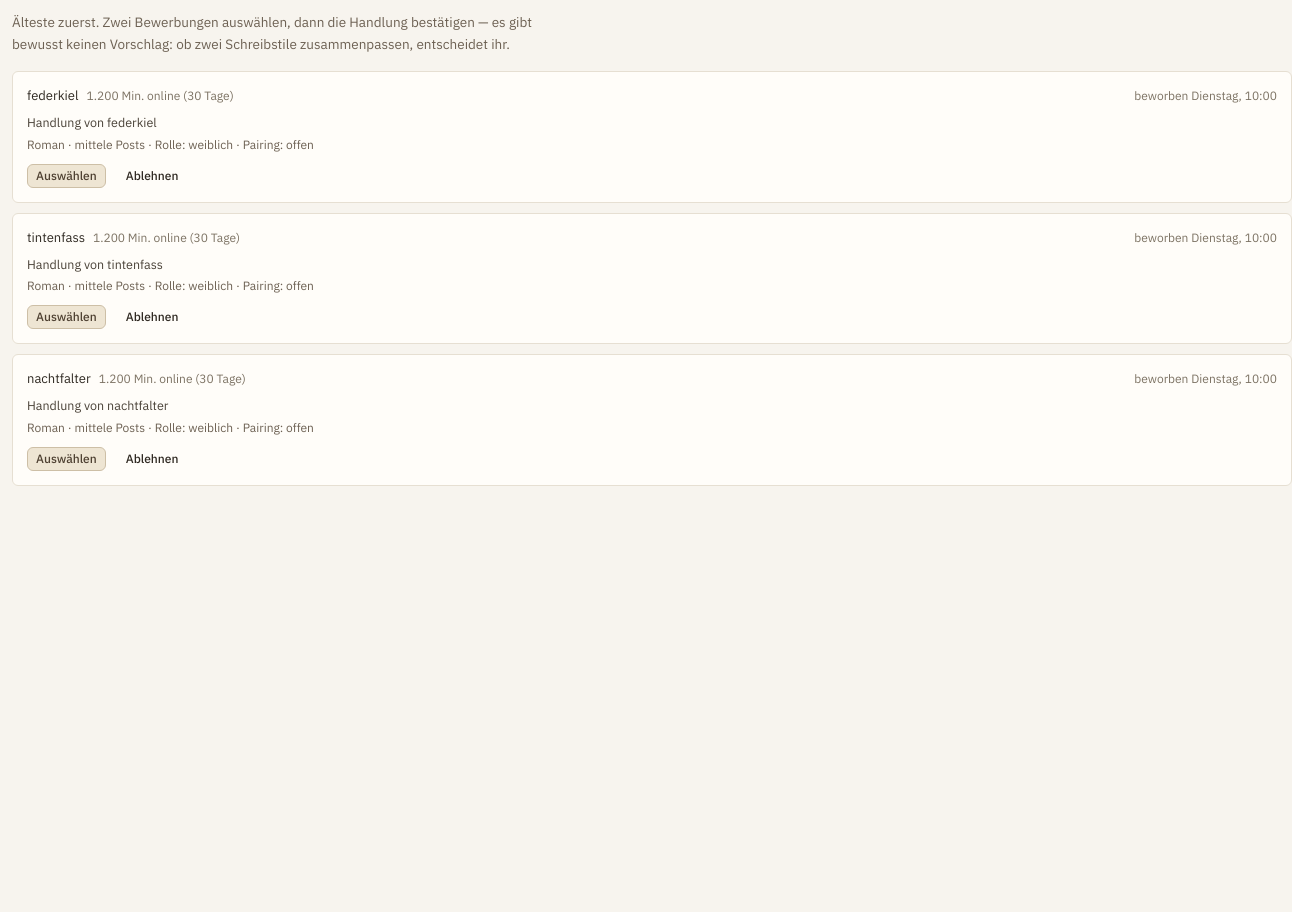
Test case: BlindDateQueuePanel › shows the form once two are chosen, naming both
The image size is (1292, 912).
Click the button "Auswählen" below "Handlung von federkiel". click: (66, 176)
box: left=27, top=164, right=106, bottom=188
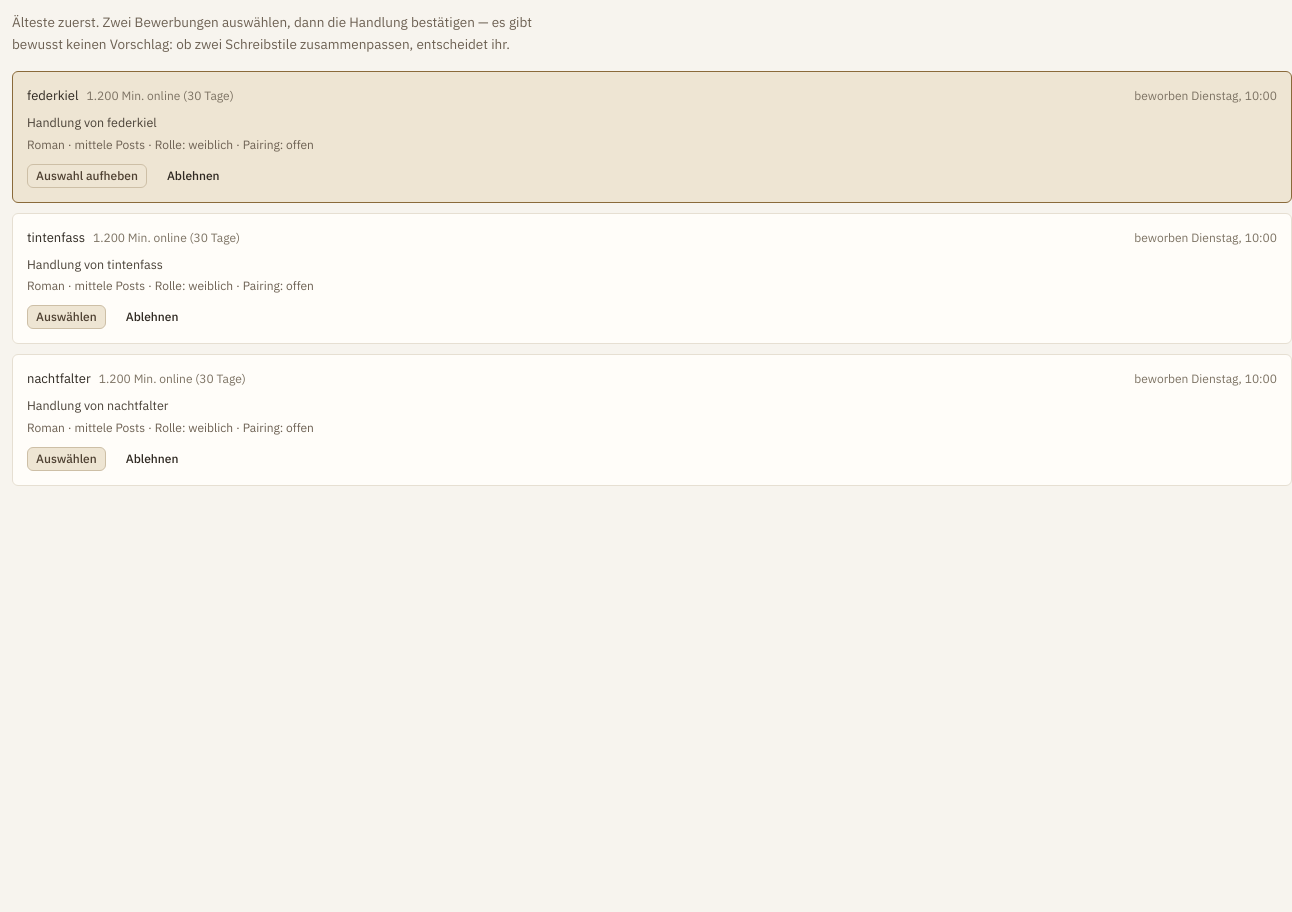
Expected: the text "Blind-Date anlegen" is not shown
Click the button "Auswählen" below "Handlung von tintenfass". click: (66, 317)
box: left=27, top=305, right=106, bottom=329
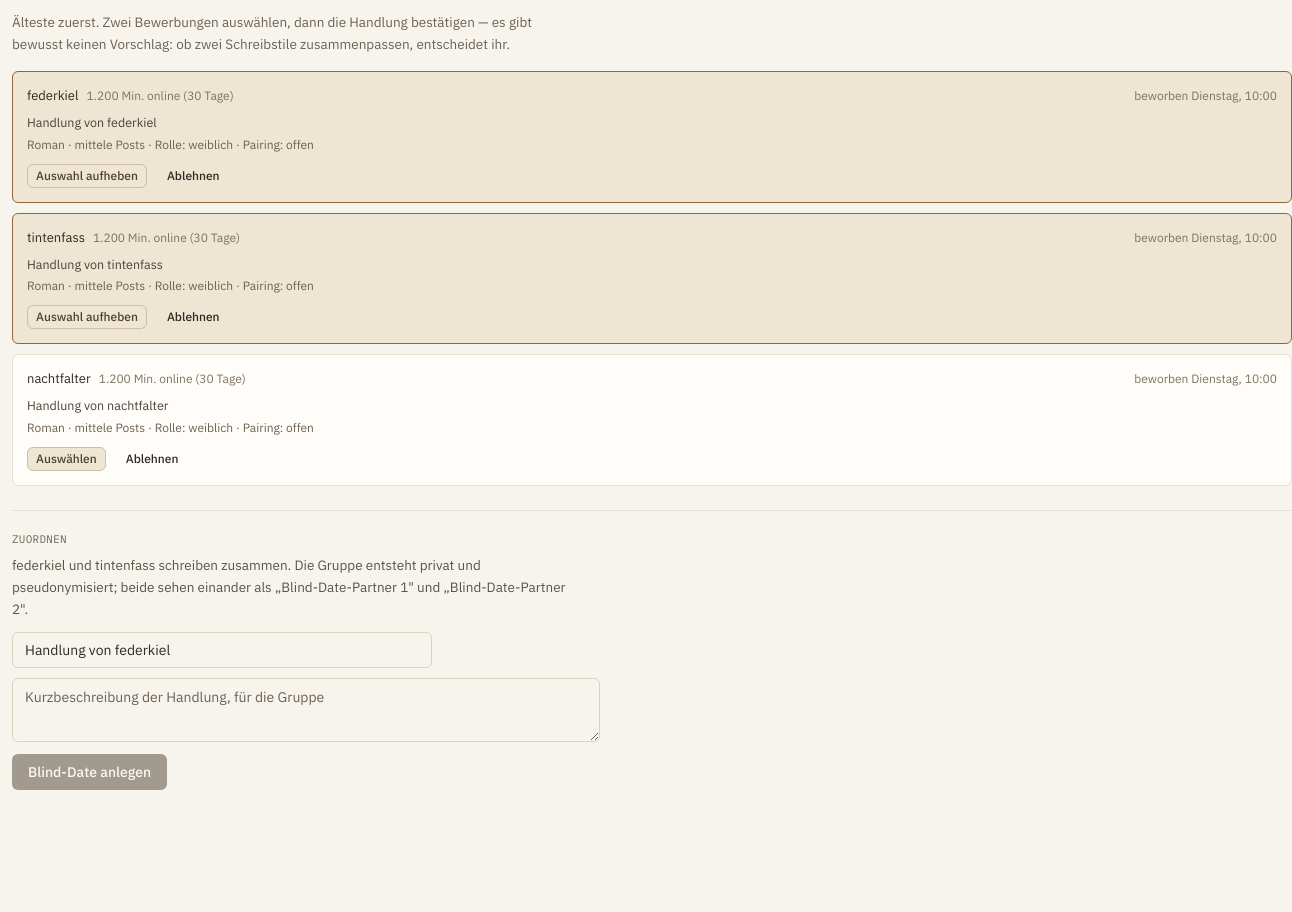
Result: the text "Blind-Date anlegen" is shown at left=12, top=754, right=167, bottom=790
Result: the text "federkiel und tintenfass" is shown at left=12, top=556, right=566, bottom=618
